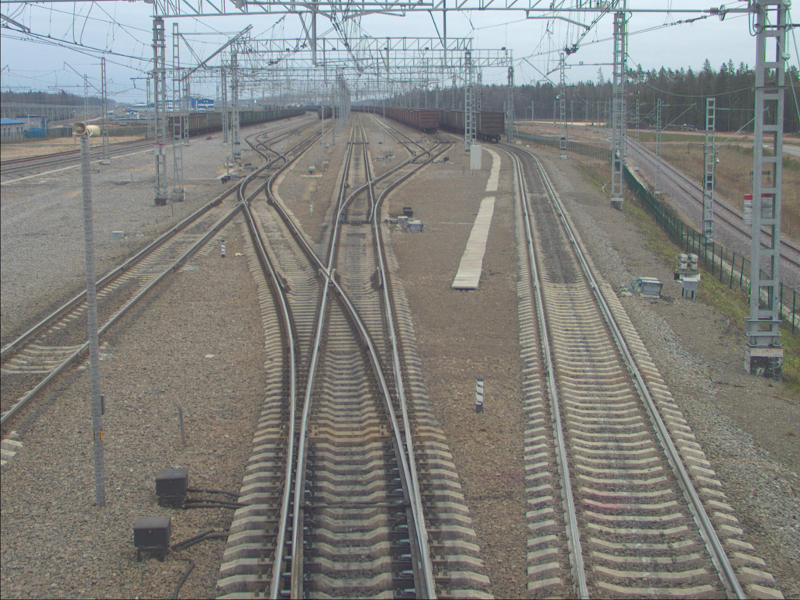left: (271, 265, 442, 600)
right: (337, 179, 376, 224)
